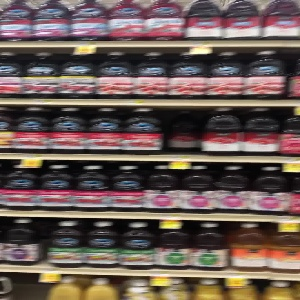void: (160, 101, 202, 152)
